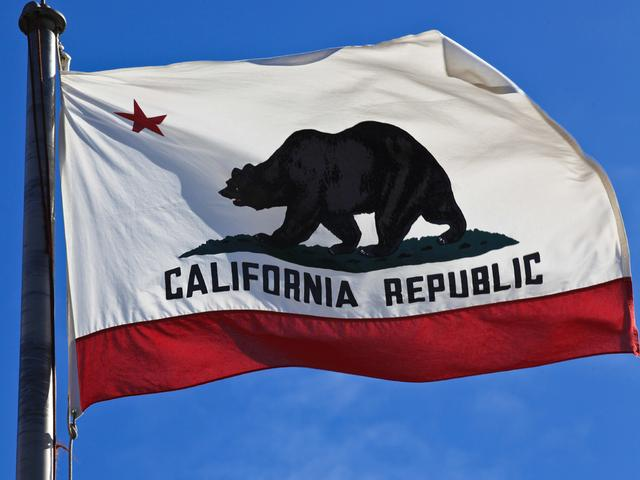bear: (195, 113, 493, 247)
